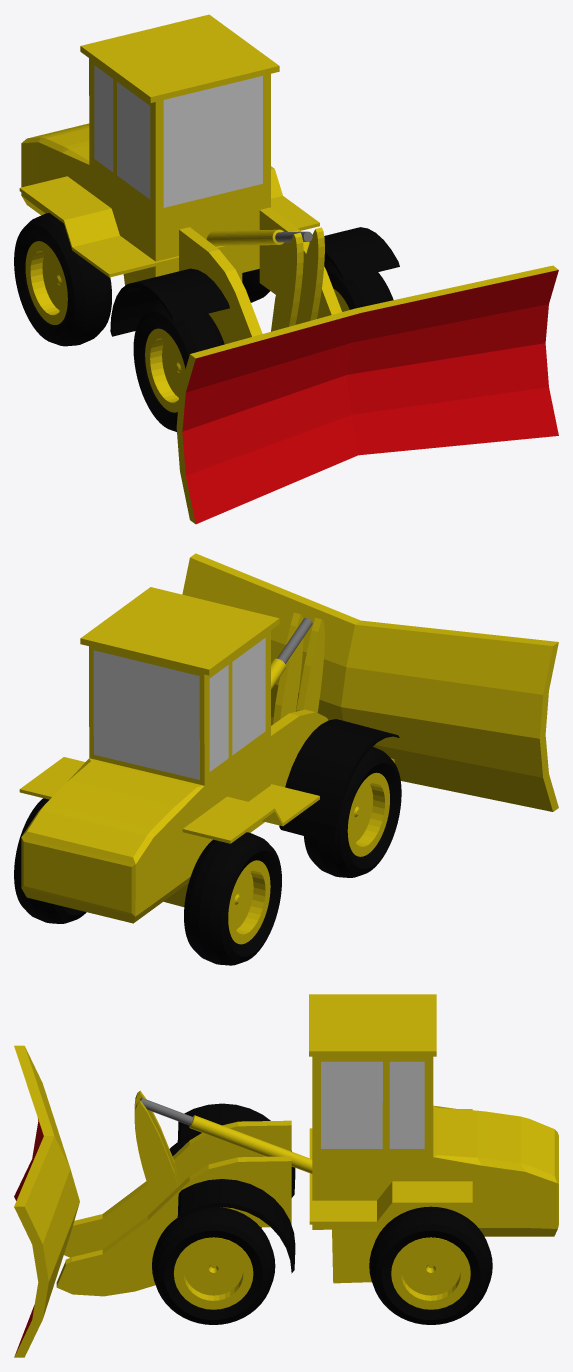
File: bull.fbx
The picture shows the model from 3 angles, top to bottom: view 1: azimuth 30°, elevation 25°; view 2: azimuth 150°, elevation 25°; view 3: azimuth 270°, elevation 25°; orthographic projection. The views are drawn at different scales.
Visible parts, largest first — view 1: Cube; view 2: Cube; view 3: Cube.
Part boxes in pixels (box(x1,y1,x2,y2)): Cube: box(14, 14, 558, 524); Cube: box(14, 553, 558, 965); Cube: box(14, 994, 558, 1357).
Size of the model in its own units: 958 by 724 by 1369.
